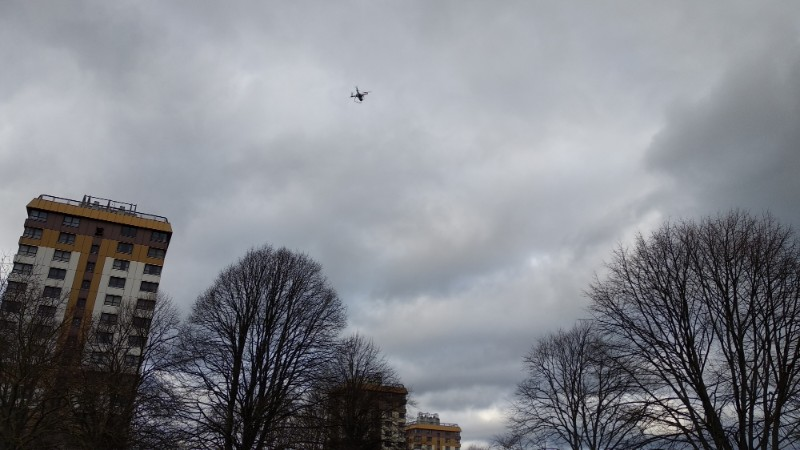drone: (349, 86, 369, 103)
